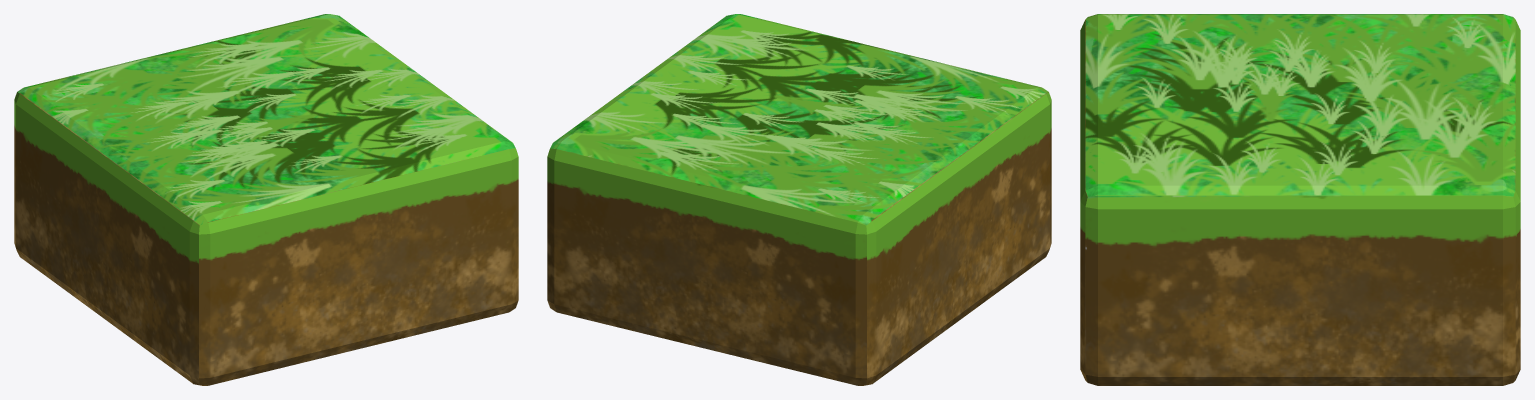
The model's file is grass_block.glb.
The picture shows the model from 3 angles, left to right: view 1: azimuth 30°, elevation 25°; view 2: azimuth 150°, elevation 25°; view 3: azimuth 270°, elevation 25°; orthographic projection. The views are drawn at different scales.
Parts seen in each view (by area): view 1: Grass_block; view 2: Grass_block; view 3: Grass_block.
Part boxes in pixels (x1,y1,x2,y2): Grass_block: (14, 14, 518, 385); Grass_block: (547, 14, 1051, 385); Grass_block: (1080, 14, 1520, 385).
Bounding box in the file's own units: 1 × 0.5 × 1.
1 material, 1 textured.
